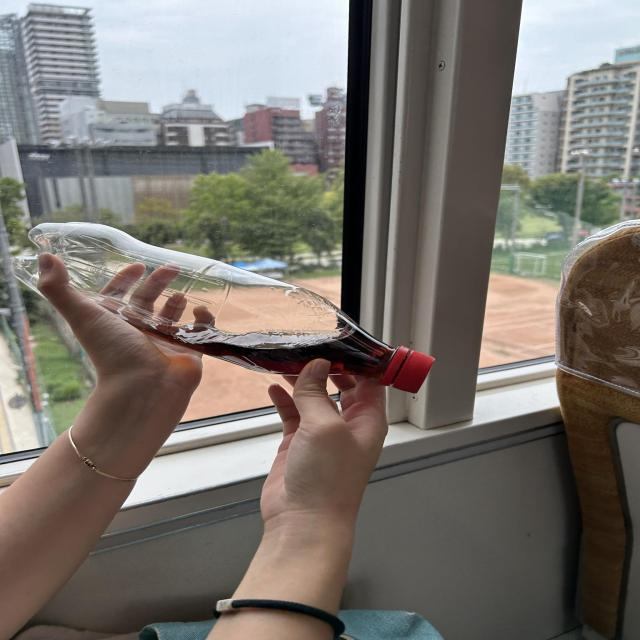low: (29, 222, 432, 392)
